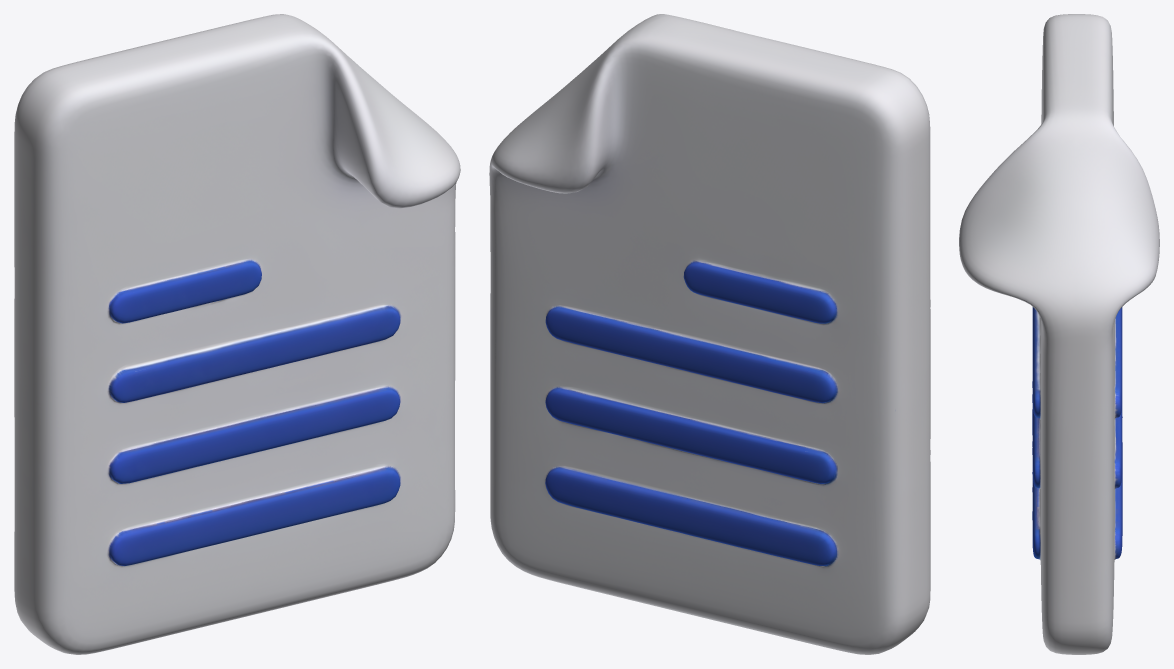
The model's file is base_basic_pbr.glb.
The picture shows the model from 3 angles, left to right: view 1: azimuth 30°, elevation 25°; view 2: azimuth 150°, elevation 25°; view 3: azimuth 270°, elevation 25°; orthographic projection. The views are drawn at different scales.
Parts seen in each view (by area): view 1: model; view 2: model; view 3: model.
Part boxes in pixels (x1,y1,x2,y2): model: [14, 14, 460, 654]; model: [489, 14, 930, 654]; model: [959, 14, 1159, 654].
Bounding box in the file's own units: 1.46 × 1.9 × 0.6975.
Materials: 1 (1 with a texture image).
